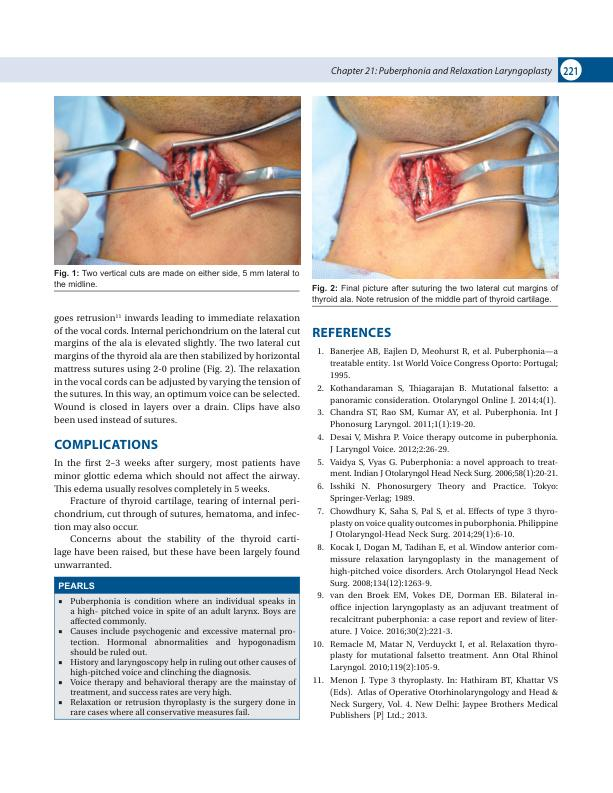caption: (311, 283, 559, 305), (53, 268, 301, 289), (58, 581, 95, 590)
header: (330, 65, 553, 77)
image: (311, 96, 559, 279), (53, 95, 301, 266)
list: (313, 346, 560, 720), (56, 595, 298, 718)
section-heading: (53, 438, 159, 451), (311, 326, 392, 339)
text: (53, 313, 300, 424), (53, 458, 300, 569)
